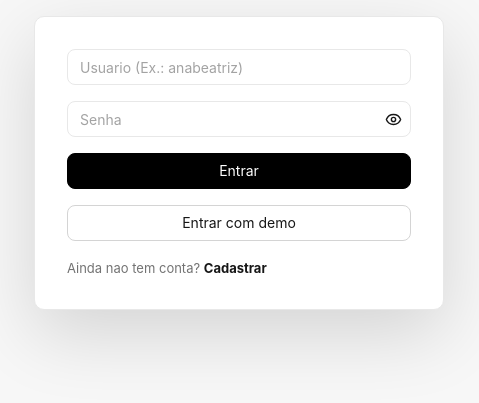
it: LoginView › shows demo login failures through the existing form error state
This screenshot has width=479, height=403.
Click the button "Entrar com demo" at (239, 223), box [67, 205, 411, 241]
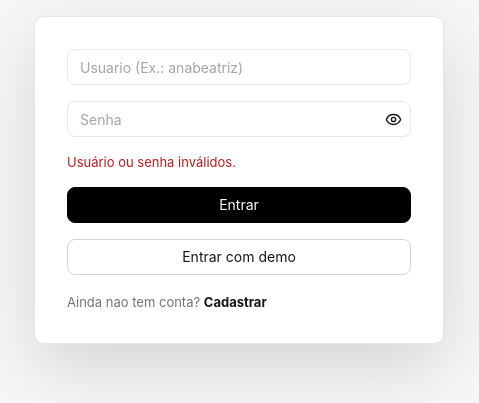
Expected: the message reads "Usuário ou senha inválidos.", [67, 154, 236, 170]
